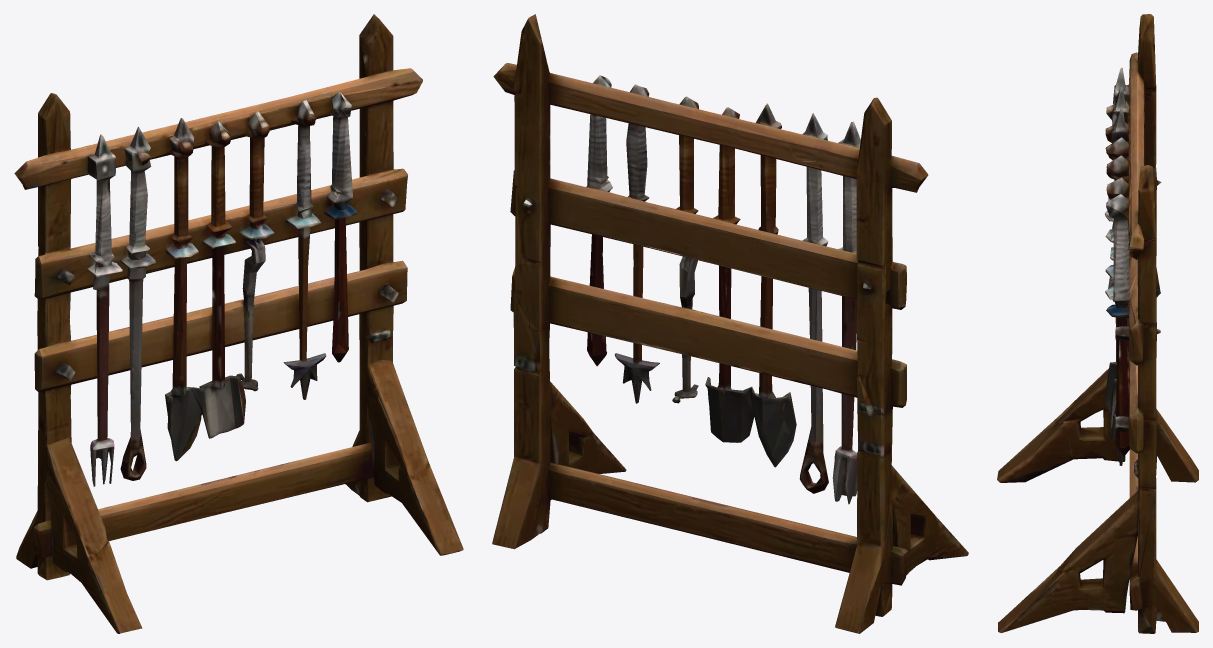
The model's file is blacksmith_tool_rack_01.glb.
The picture shows the model from 3 angles, left to right: view 1: azimuth 30°, elevation 25°; view 2: azimuth 150°, elevation 25°; view 3: azimuth 270°, elevation 25°; orthographic projection. The views are drawn at different scales.
Visible parts, largest first — view 1: geometry_0; view 2: geometry_0; view 3: geometry_0.
Boxes of the visible parts, x1=… form: geometry_0: x1=14, y1=14, x2=463, y2=633; geometry_0: x1=492, y1=14, x2=968, y2=633; geometry_0: x1=997, y1=14, x2=1198, y2=633.
Bounding box in the file's own units: 0.872 × 0.9978 × 0.3943.
Materials: 1 (1 with a texture image).
